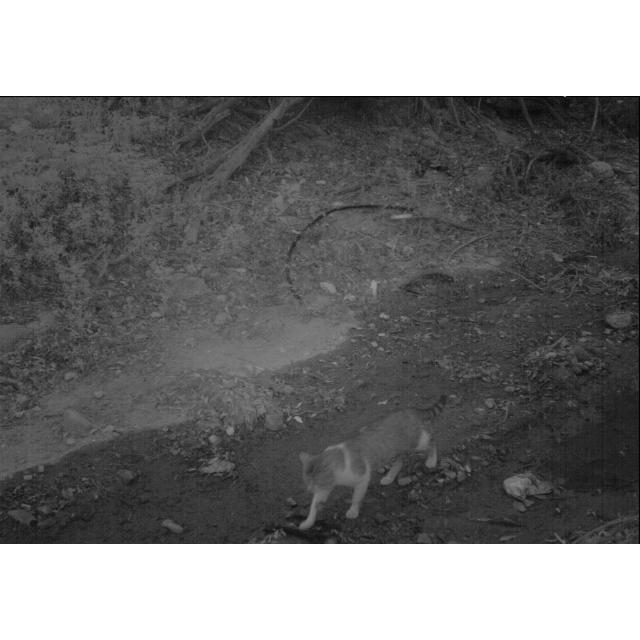animals: (296, 396, 448, 532)
